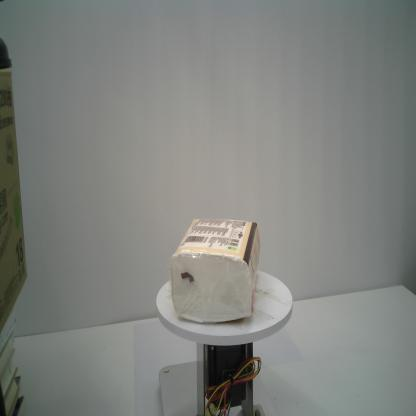Tissue: (171, 218, 262, 322)
